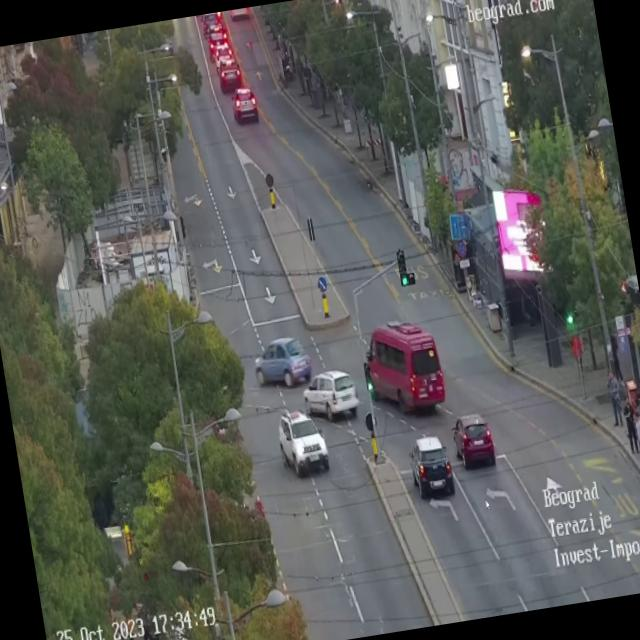bus: (358, 314, 448, 421)
car: (274, 406, 331, 480), (250, 333, 314, 393), (299, 366, 362, 424), (406, 433, 456, 502), (450, 411, 498, 472), (230, 86, 258, 120), (216, 57, 242, 88), (212, 43, 234, 70), (201, 12, 223, 37), (208, 25, 233, 43)
